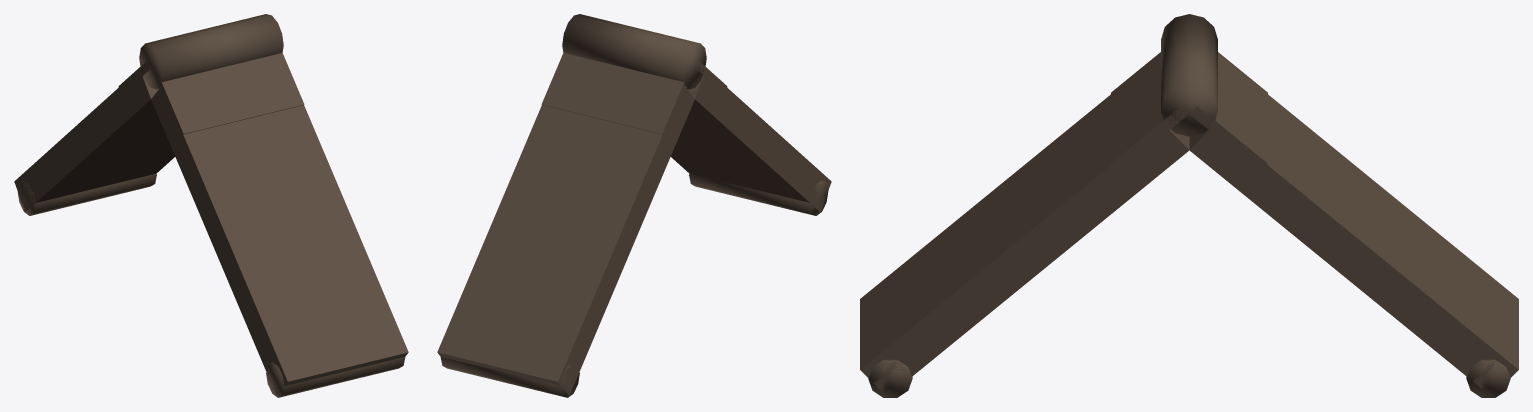
File: kit_timber_thatch_w3.glb
The picture shows the model from 3 angles, left to right: view 1: azimuth 30°, elevation 25°; view 2: azimuth 150°, elevation 25°; view 3: azimuth 270°, elevation 25°; orthographic projection. The views are drawn at different scales.
Visible parts, largest first — view 1: kit_timber_thatch_w3; view 2: kit_timber_thatch_w3; view 3: kit_timber_thatch_w3.
Part boxes in pixels (bbox=[...]): kit_timber_thatch_w3: bbox=[14, 14, 408, 397]; kit_timber_thatch_w3: bbox=[437, 14, 831, 397]; kit_timber_thatch_w3: bbox=[860, 14, 1518, 397].
Bounding box in the file's own units: 1 × 2.06 × 3.92.
